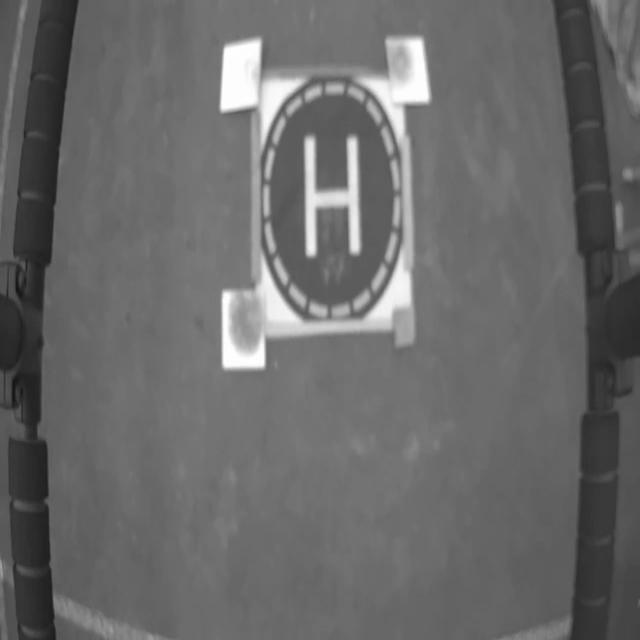Helipad: (304, 134, 361, 258)
